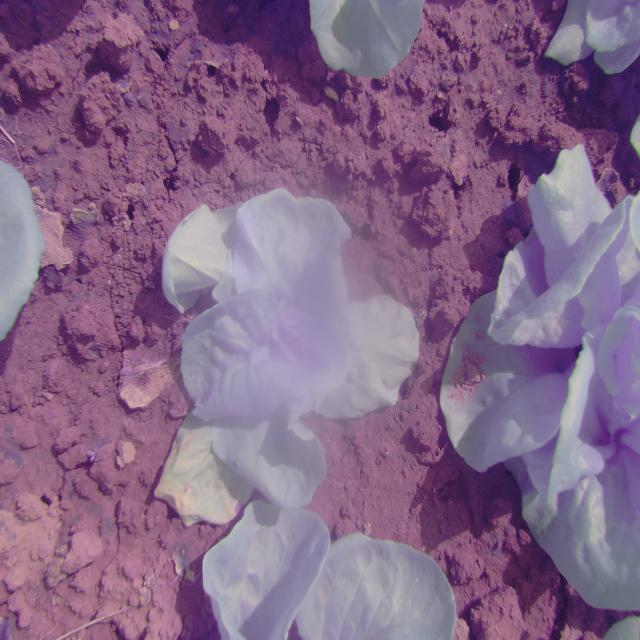vege: (140, 187, 420, 530)
